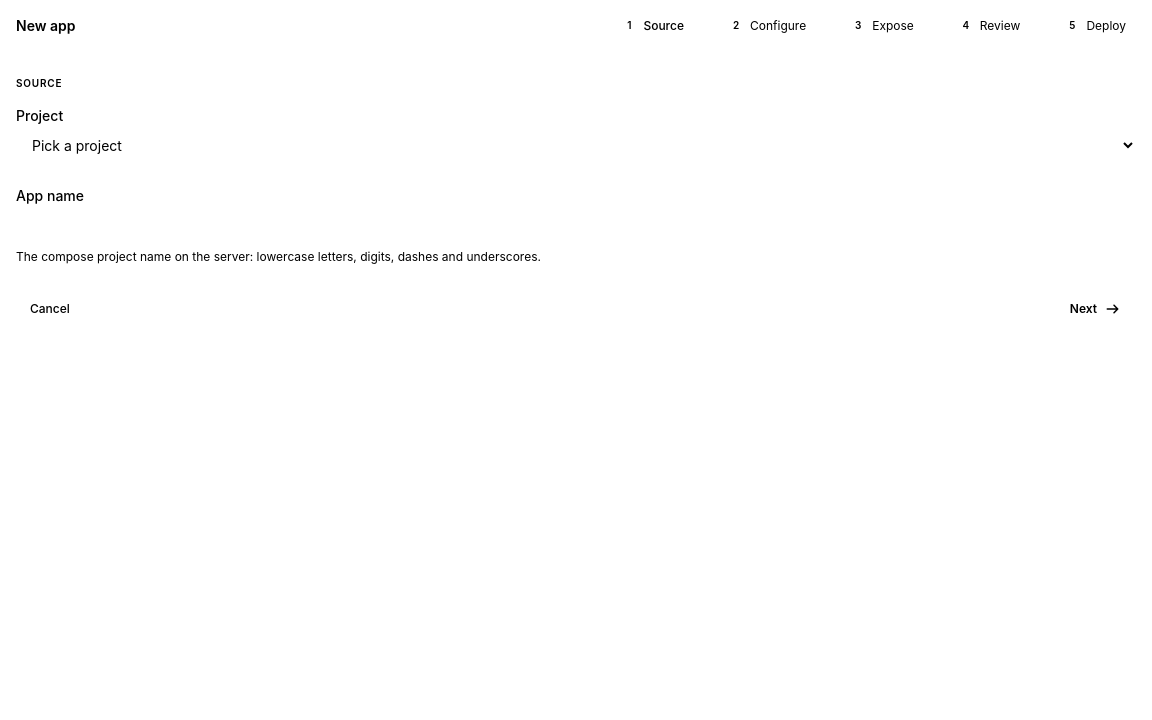
NewAppWizard source › offers to try listing the compose files again
Step 1. Select "Shop" in the dropdown labelled "Project" → (576, 145), box 16,127 -> 1136,163
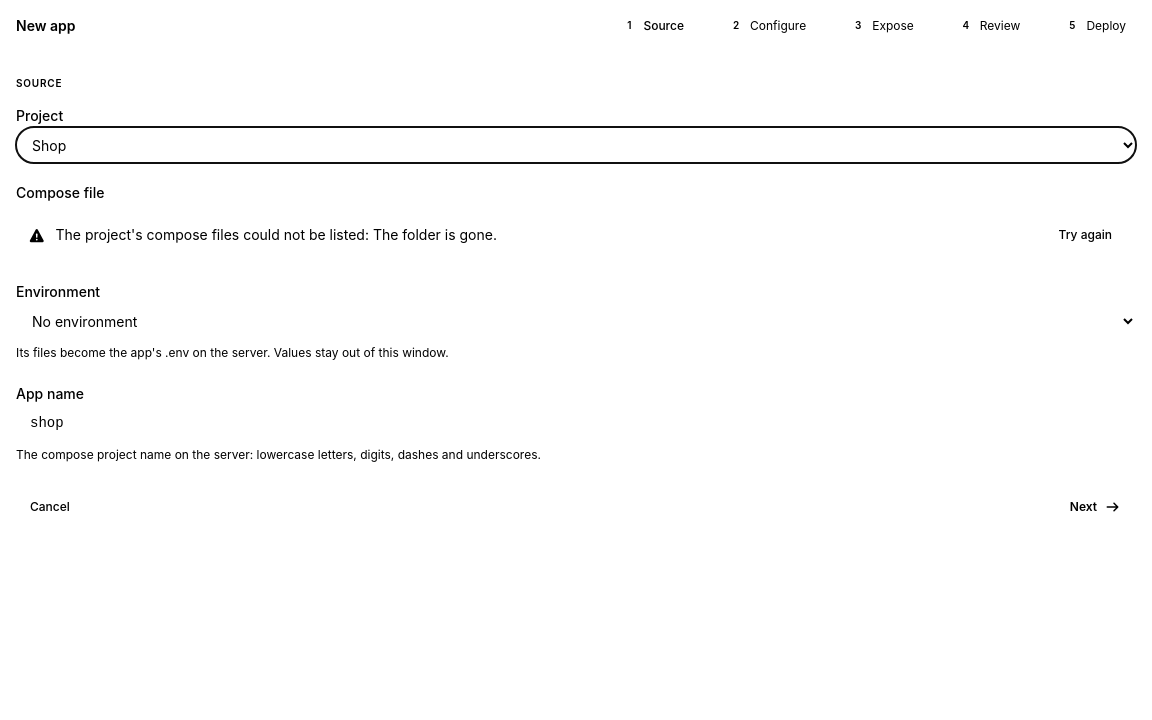
Expected: the text "could not be listed: The folder is gone" is shown, 56,226 -> 497,243
Step 2. Click the button "Try again" → (1085, 235), box 1047,221 -> 1124,249
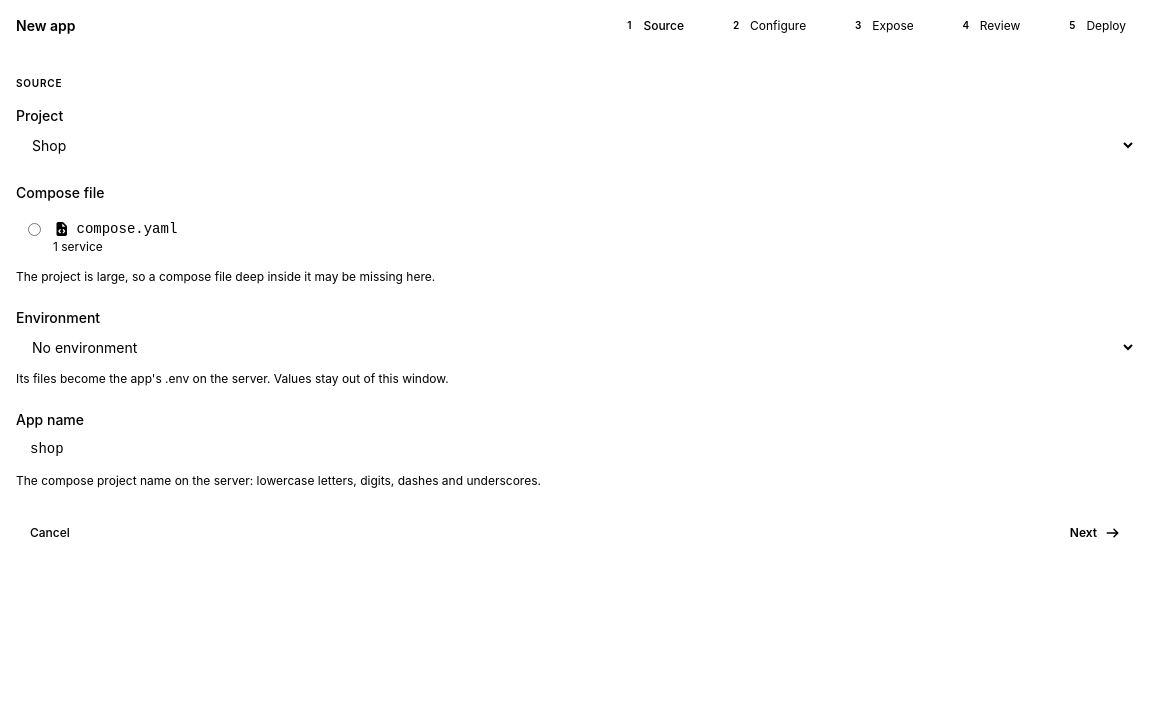
Expected: the text "1 service" is shown, 53,239 -> 103,254
Expected: the text "The project is large" is shown, 16,269 -> 435,284
